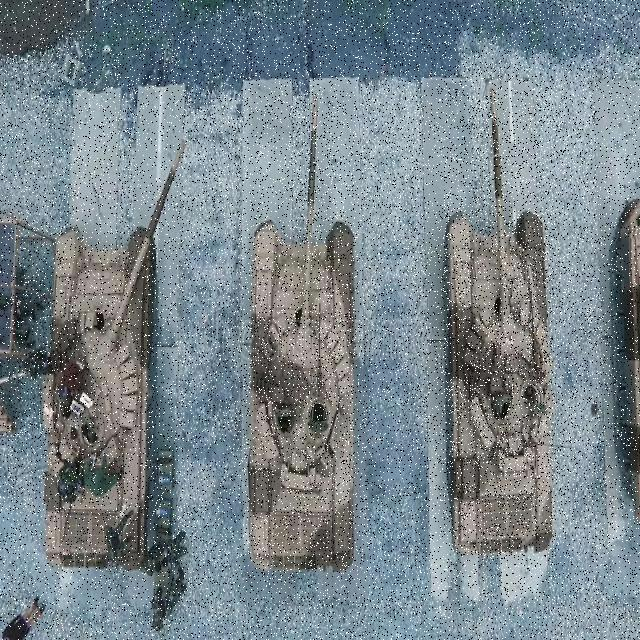MIL_MBT: (42, 136, 186, 574), (246, 91, 356, 572), (444, 88, 554, 556)
